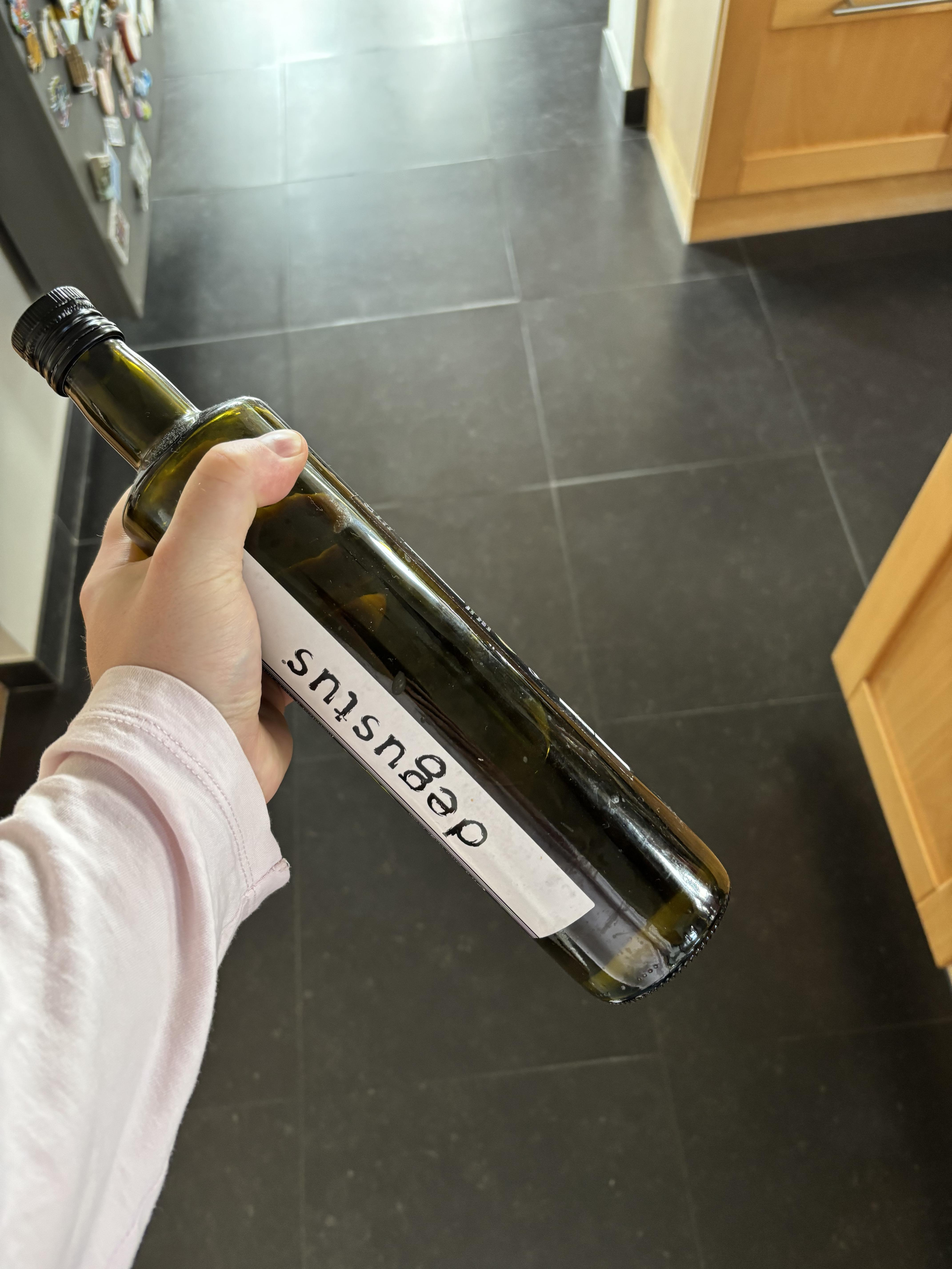Glass: (4, 282, 741, 1003)
